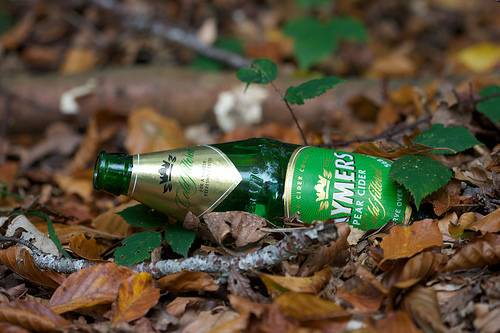litter: (92, 137, 426, 232)
